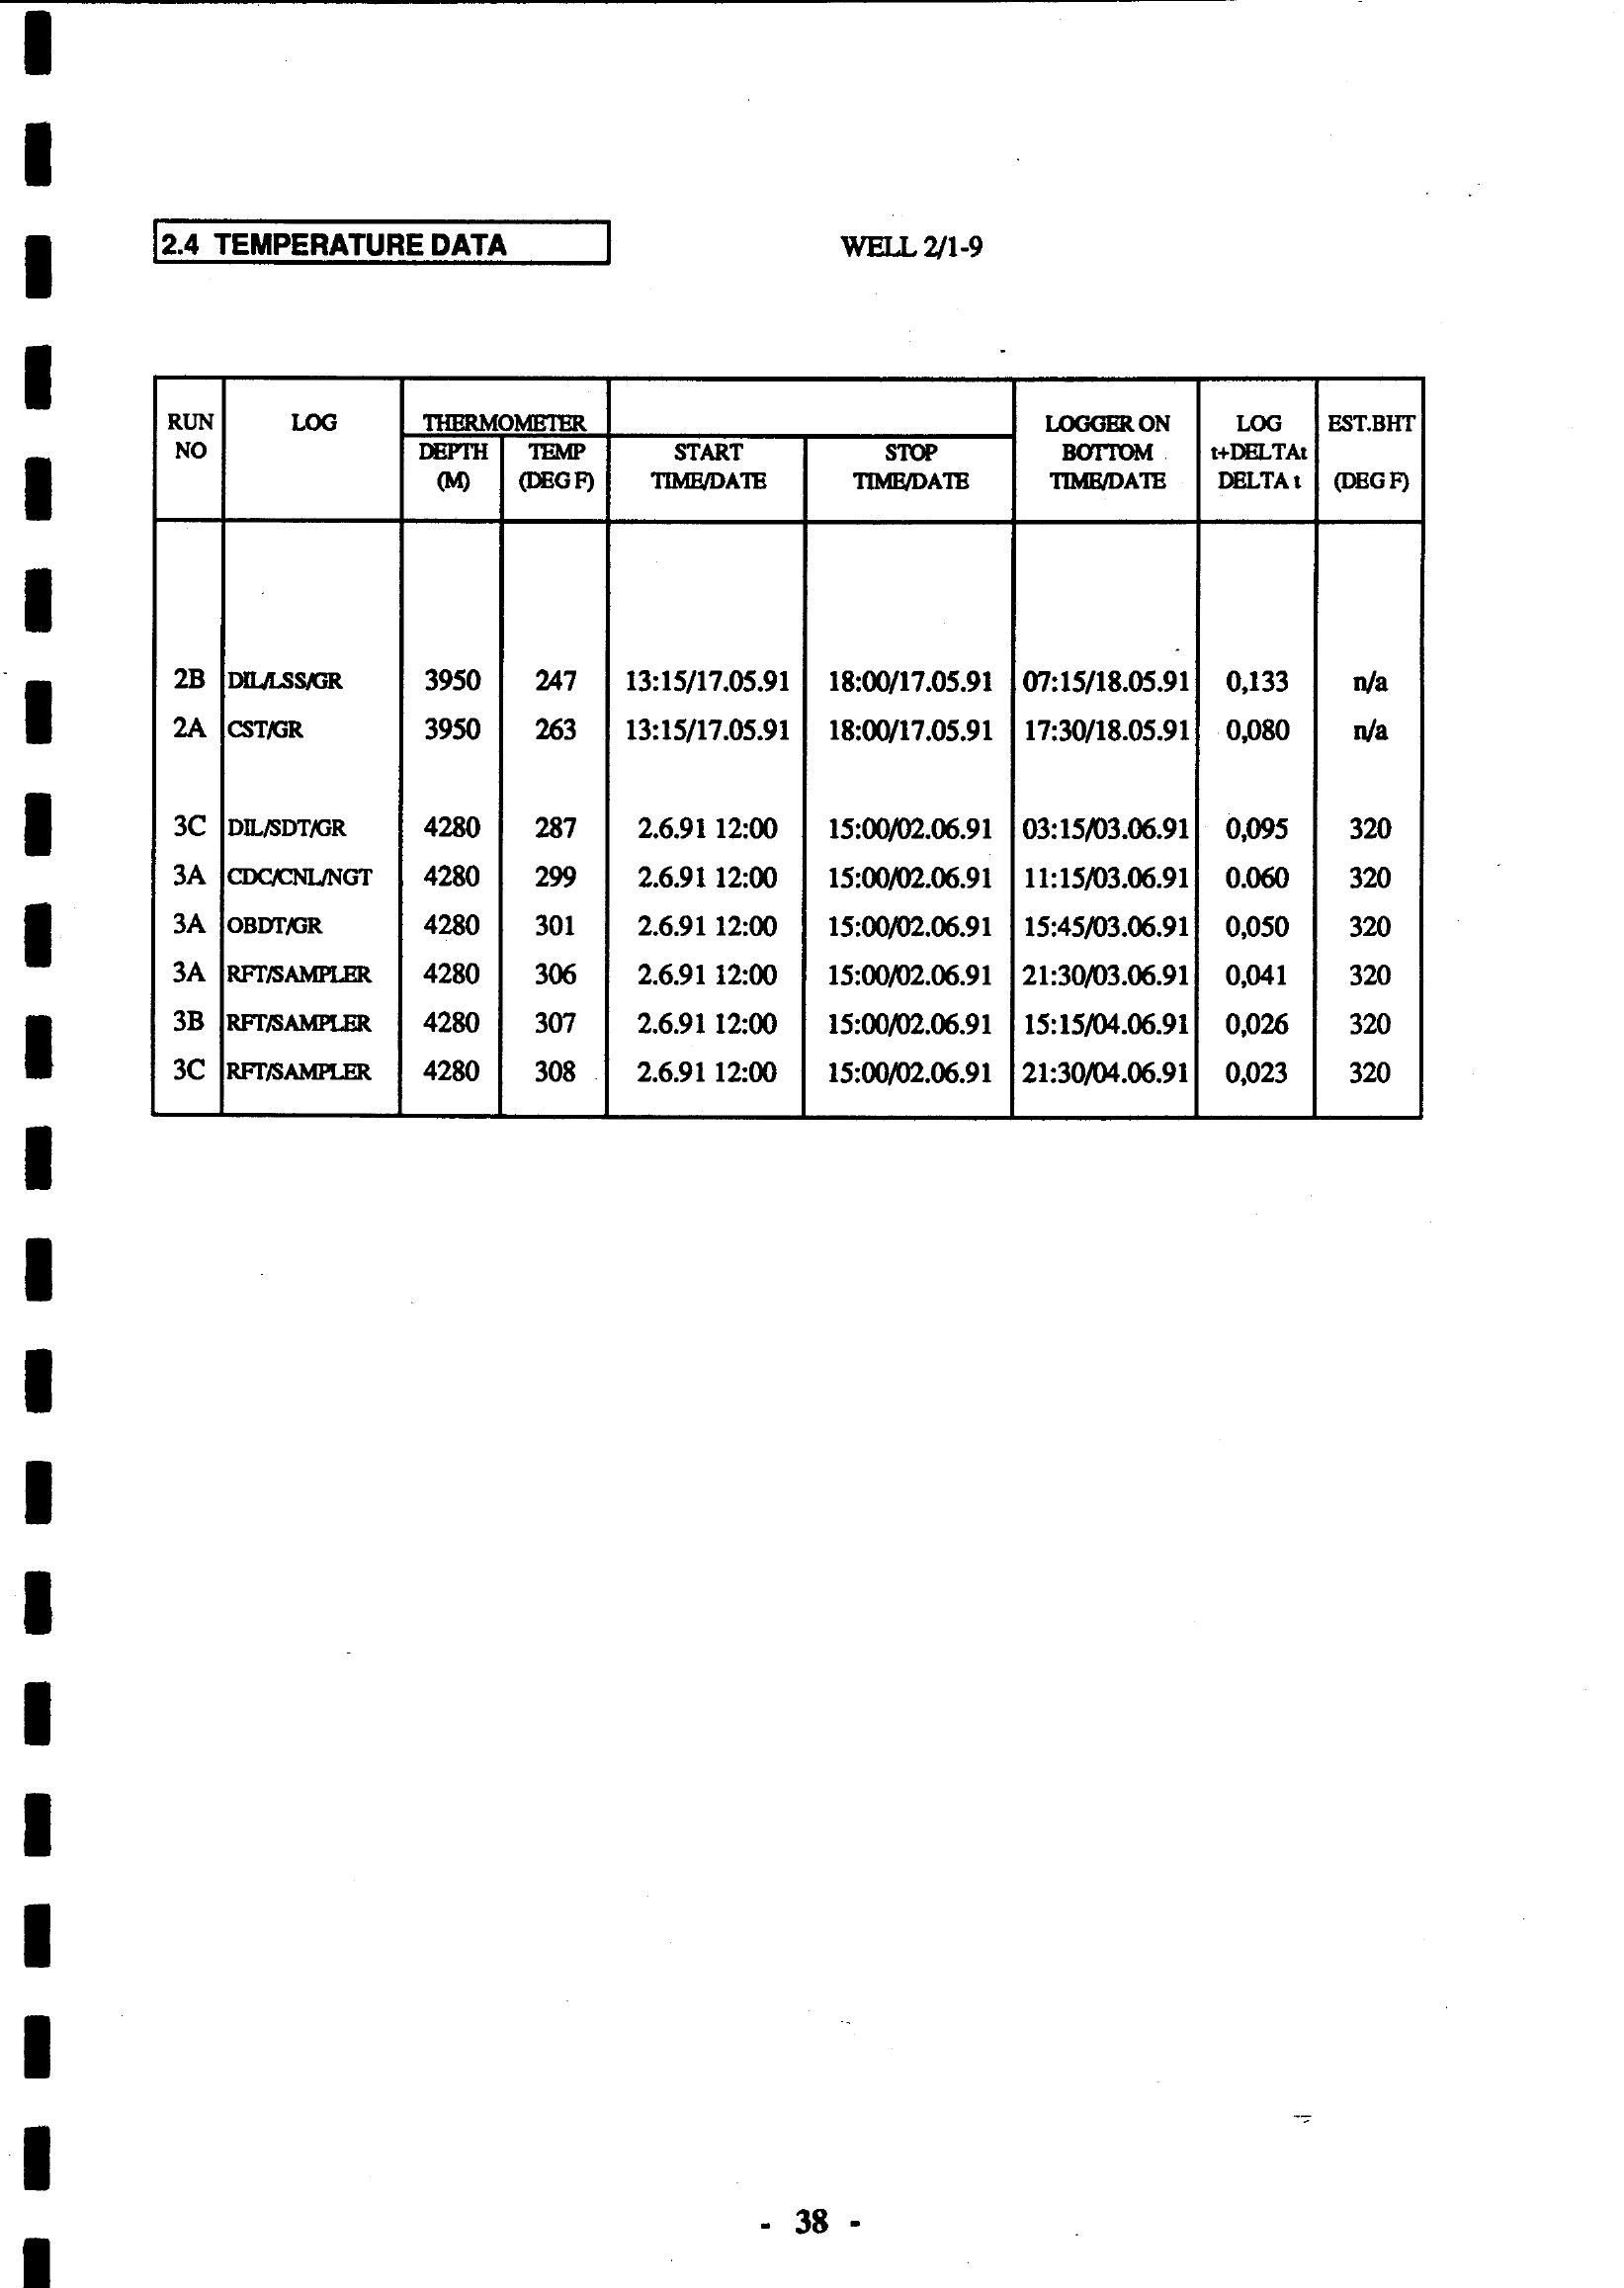table: (112, 197, 1476, 1158)
